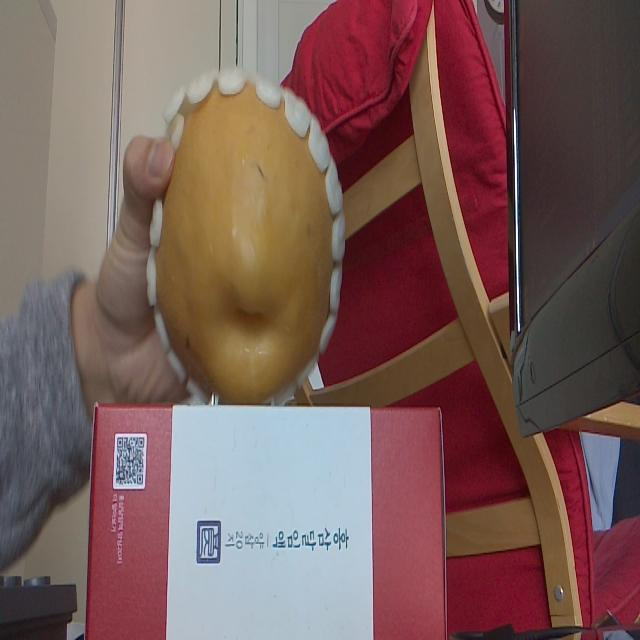pear: (152, 69, 344, 408)
